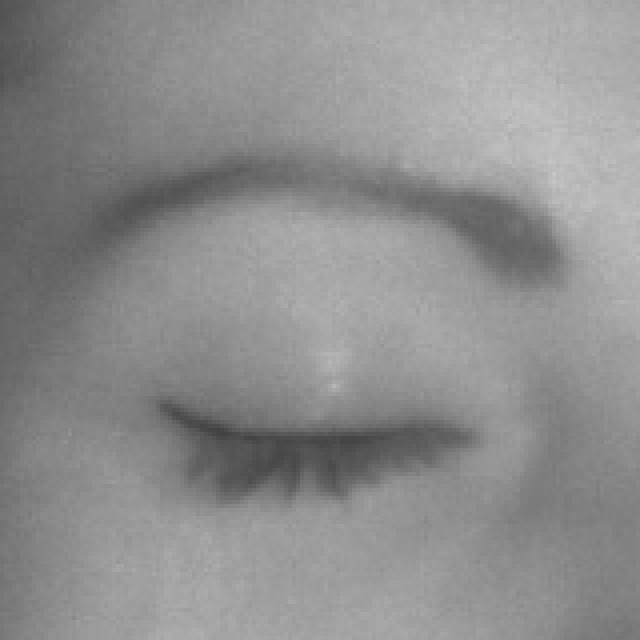close: (39, 113, 590, 592)
